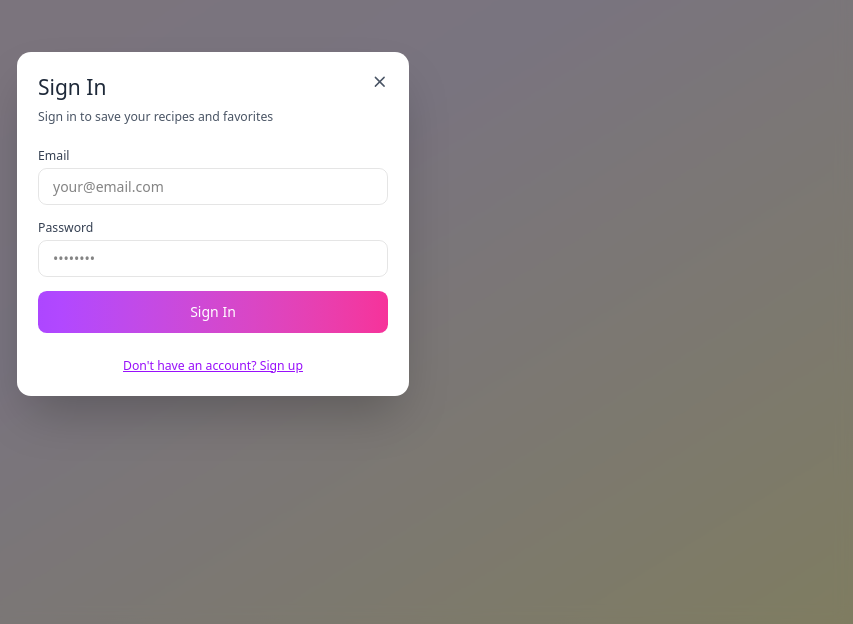
Test: AuthModal › should clear error when switching modes
Step 1. Type "test@example.com" into the field labelled "Email" → (213, 186), box 38,168 -> 388,205
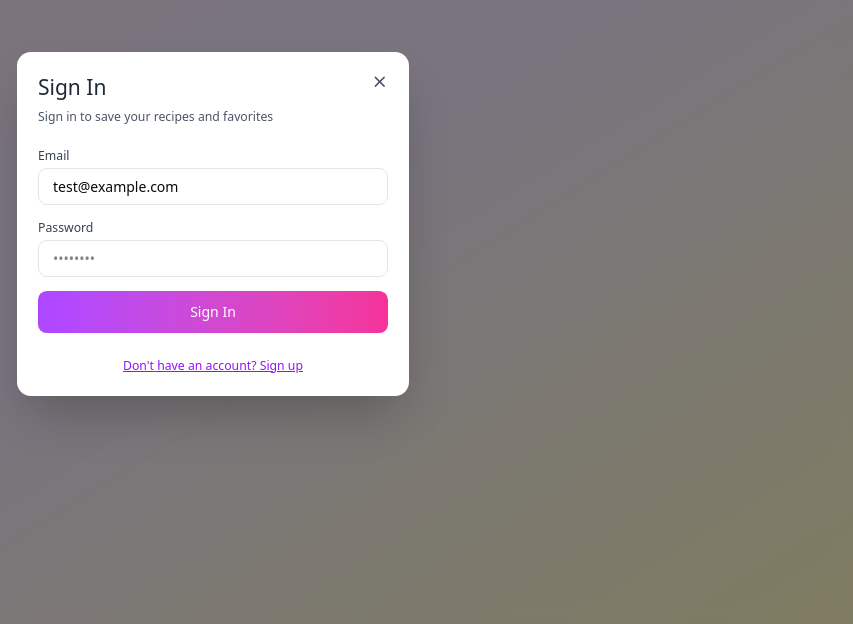
Step 2. Type "wrongpassword" into the password field labelled "Password" → (213, 258), box 38,240 -> 388,277
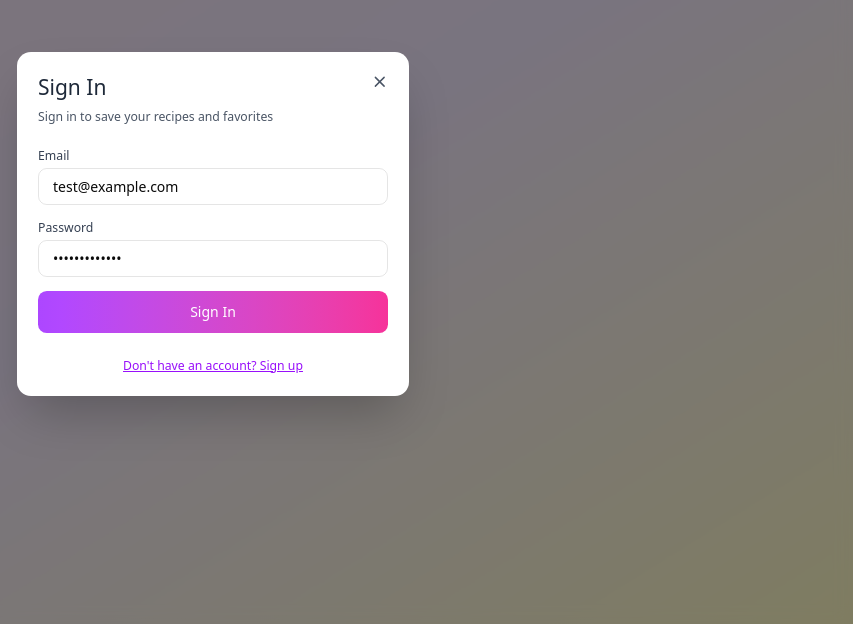
Step 3. Click the button "Sign In" → click(213, 312), box 38,291 -> 388,333
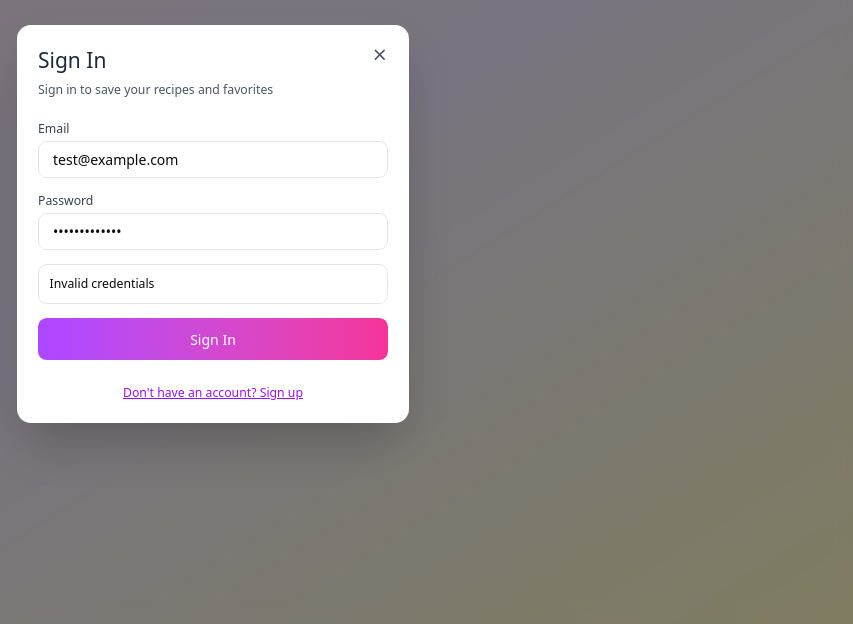
Check: the text "Invalid credentials" is shown, box 38,264 -> 388,304
Note: Switch to signup mode
Step 4. Click the button "Don't have an account? Sign up" → click(213, 393), box 123,384 -> 303,402
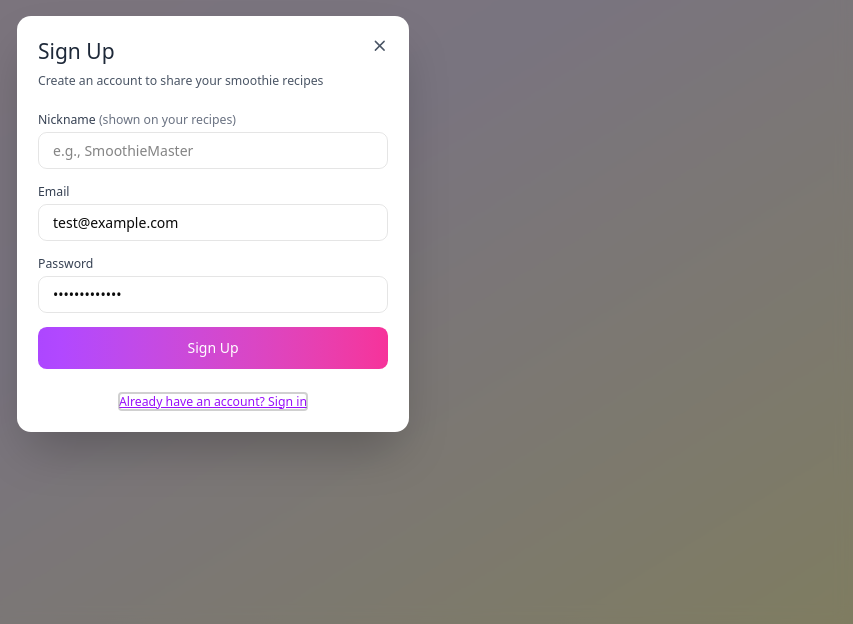
Check: the text "Invalid credentials" is gone
